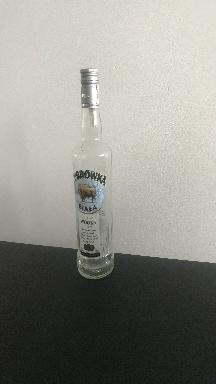butelka: (70, 64, 115, 282)
